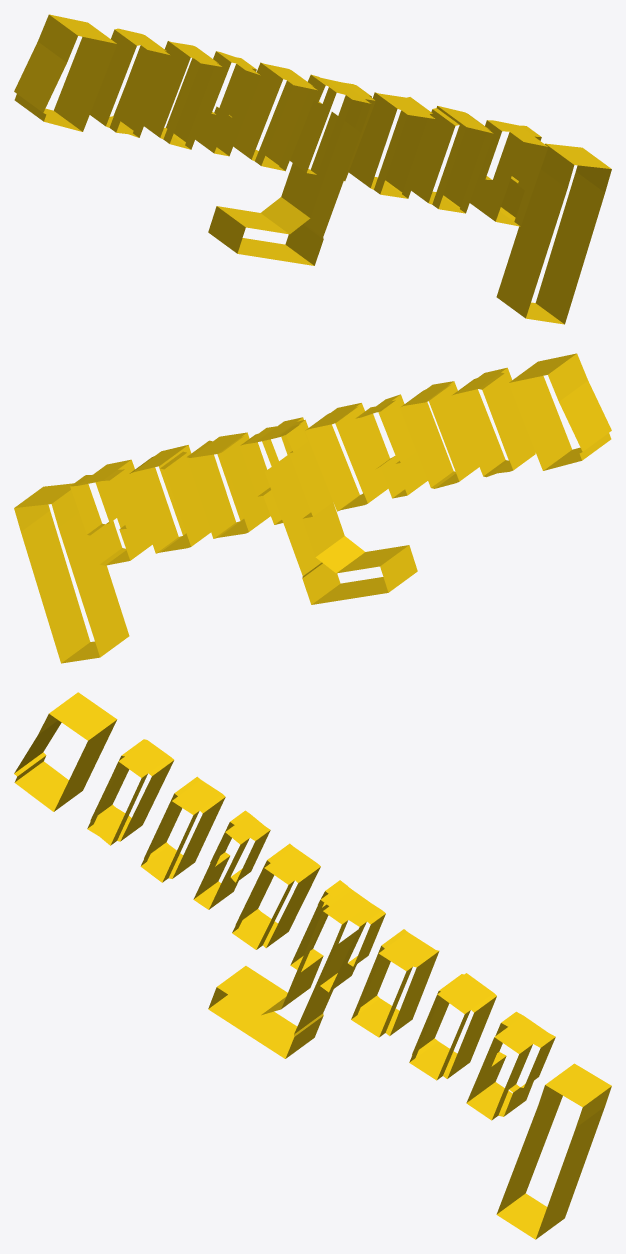
Rendered from Wall_Hini_2.0_Slope_3.0.obj.
3 views of the same model, one above another, from view 1: azimuth 30°, elevation 25°; view 2: azimuth 150°, elevation 25°; view 3: azimuth 330°, elevation 25° (orthographic).
Parts seen in each view (by area): view 1: 6, 1, 2, 4, 5, 8, 10, 3, 9, 7; view 2: 6, 1, 2, 5, 10, 4, 3, 9, 8, 7; view 3: 6, 1, 2, 4, 5, 3, 8, 10, 9, 7.
Boxes of the visible parts, x1,y1,x2,y2 form: 6: (208, 74, 375, 265); 1: (496, 143, 611, 324); 2: (14, 14, 117, 131); 4: (348, 92, 435, 198); 5: (411, 106, 493, 213); 8: (233, 62, 317, 171); 10: (90, 28, 170, 137); 3: (470, 120, 548, 226); 9: (144, 41, 222, 149); 7: (195, 51, 260, 156); 6: (240, 417, 417, 604); 1: (14, 483, 129, 663); 2: (508, 353, 611, 470); 5: (129, 445, 210, 553); 10: (451, 367, 535, 477); 4: (186, 432, 270, 538); 3: (70, 459, 152, 565); 9: (400, 381, 479, 488); 8: (305, 403, 388, 511); 7: (355, 394, 427, 498); 6: (208, 880, 385, 1058); 1: (496, 1063, 611, 1239); 2: (14, 692, 117, 811); 4: (351, 929, 439, 1037); 5: (409, 973, 496, 1080); 3: (466, 1011, 555, 1120); 8: (232, 843, 320, 949); 10: (87, 739, 174, 845); 9: (140, 776, 225, 882); 7: (193, 810, 270, 909).
Bounding box in the file's own units: 134 × 92 × 12.
